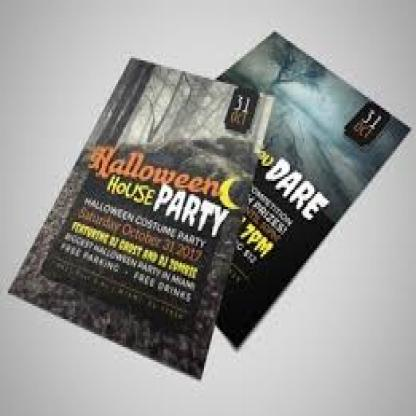Paper: (9, 8, 406, 398)
